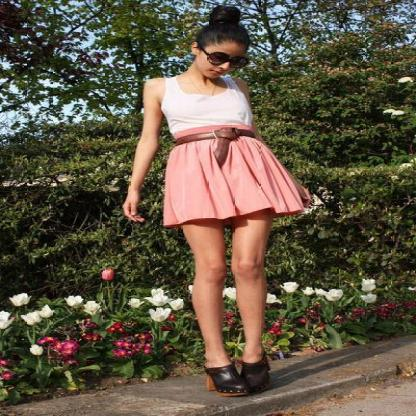shirt: (162, 76, 258, 140)
shoe: (198, 361, 272, 396)
skirt: (162, 125, 298, 224)
sunglass: (200, 46, 231, 66)
